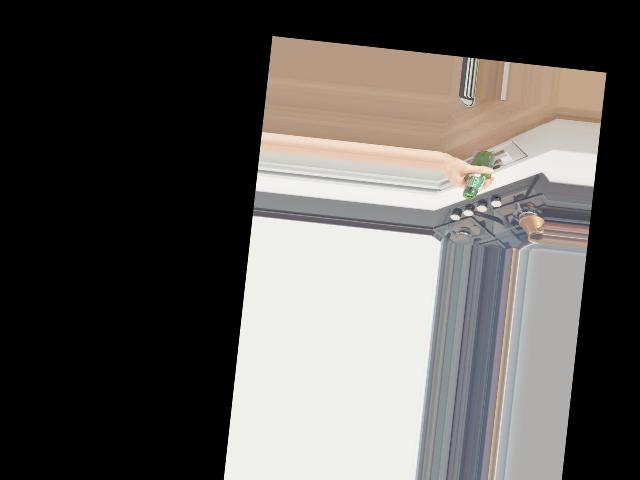beer: (462, 148, 495, 201)
